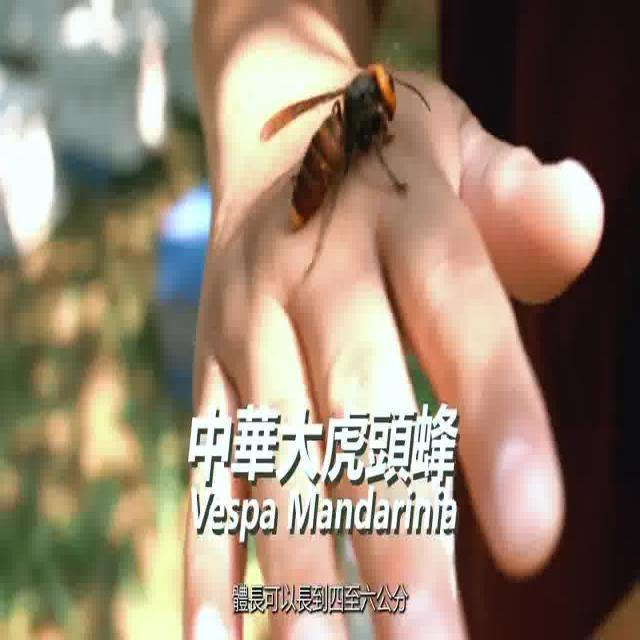Wasp: (263, 49, 431, 276)
